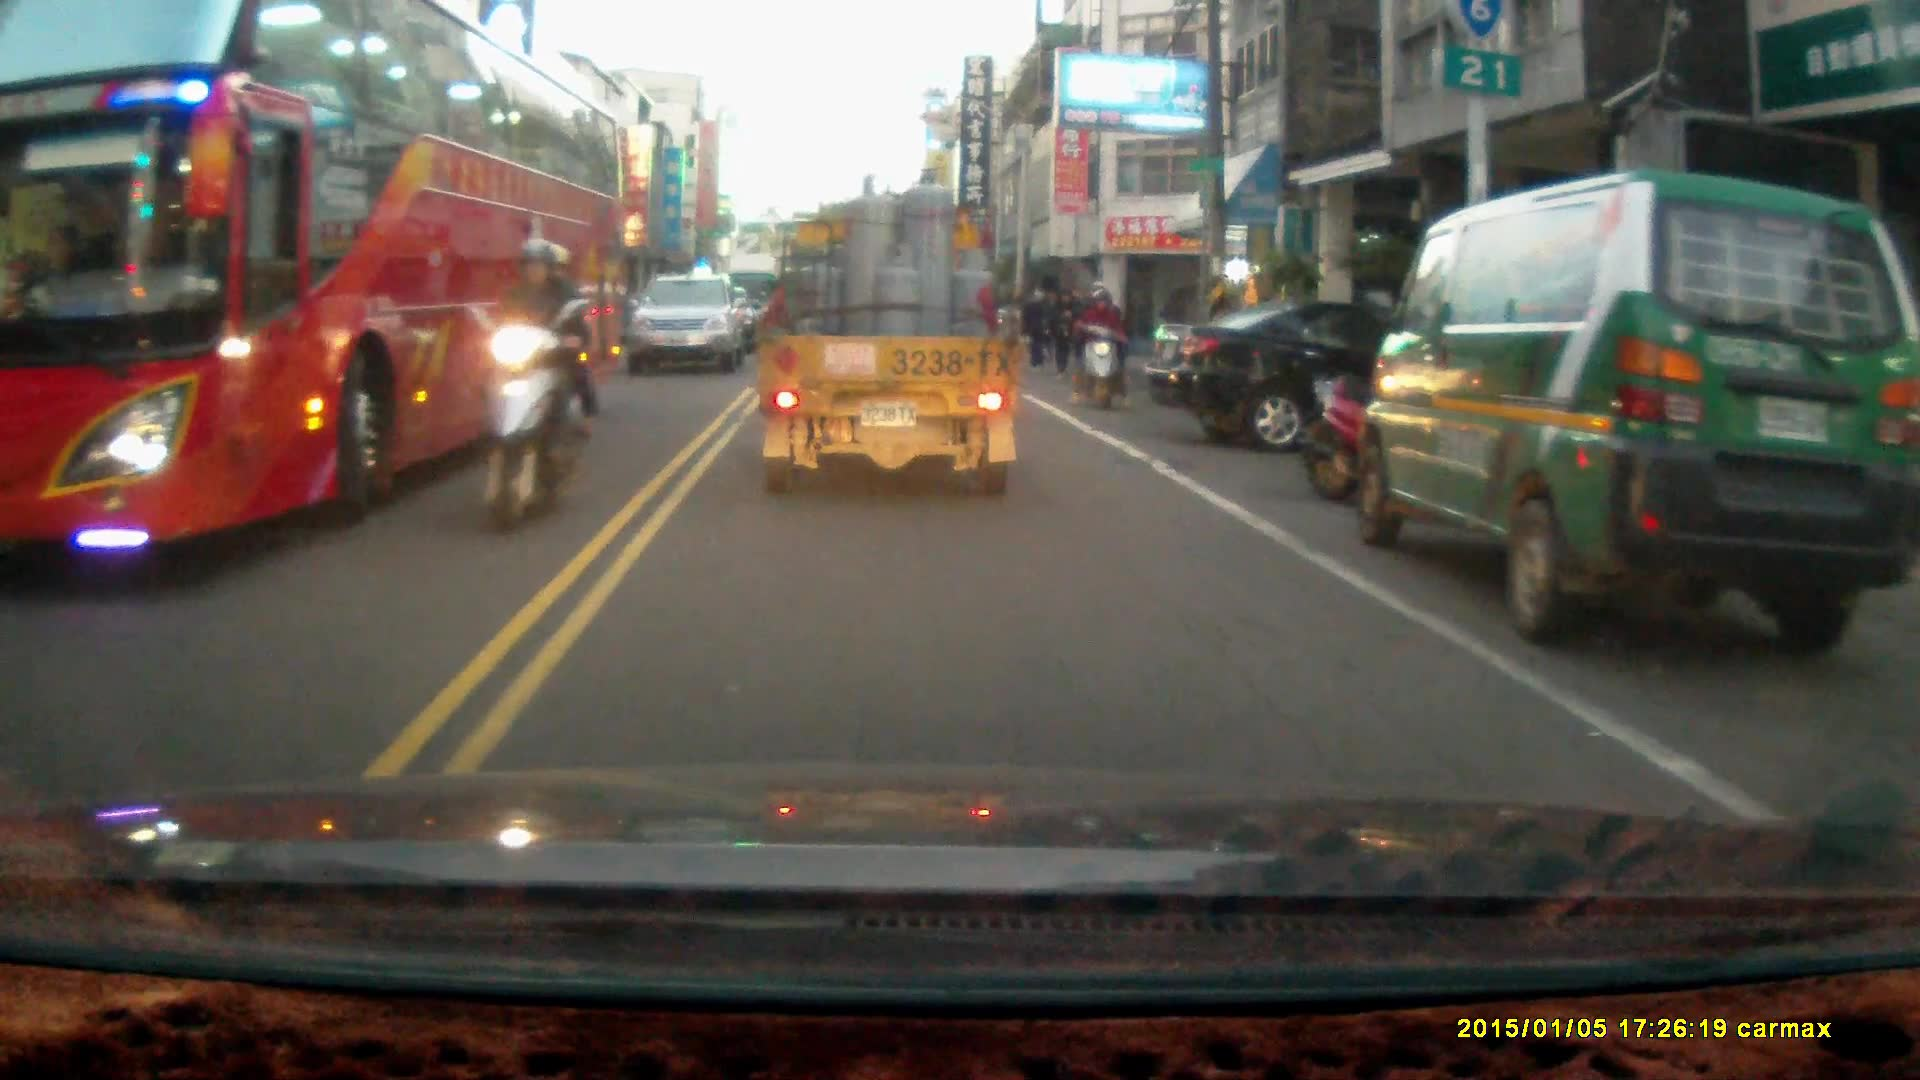pedestrian: (1050, 288, 1077, 379)
rider: (462, 237, 606, 533), (1073, 281, 1132, 414)
vehicle: (1, 7, 634, 556), (1362, 167, 1905, 651), (752, 168, 1023, 499), (1161, 295, 1385, 459), (624, 275, 748, 380)
